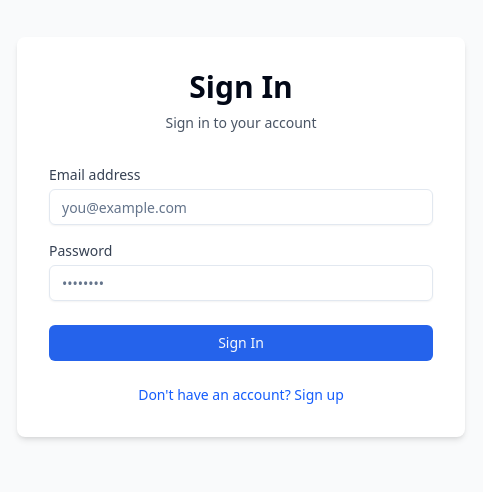
Scenario: LoginForm › displays error message on sign in failure
The image size is (483, 492).
In the field labelled "Email address": (241, 207) [49,189,433,225], type "test@example.com"
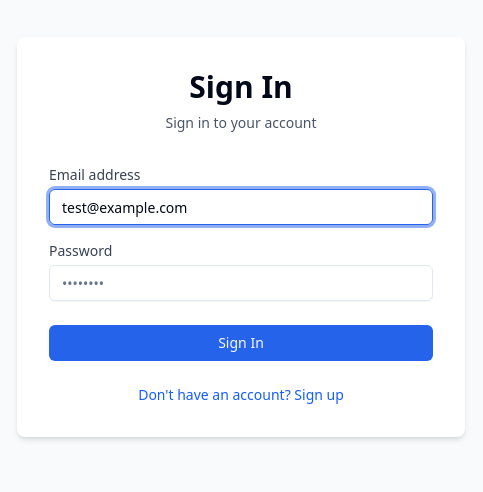
In the password field labelled "Password": (241, 283) [49,265,433,301], type "wrongpassword"
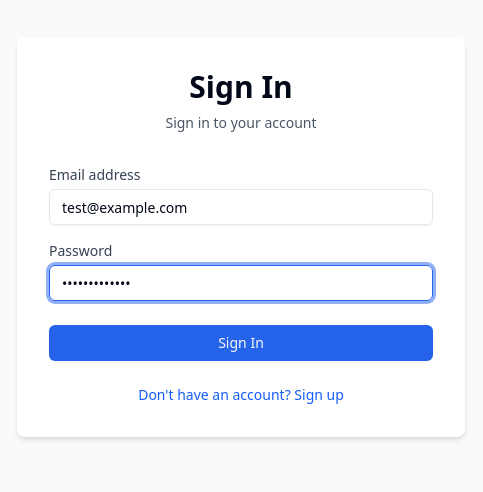
Click the button "Sign In": (241, 343) [49,325,433,361]
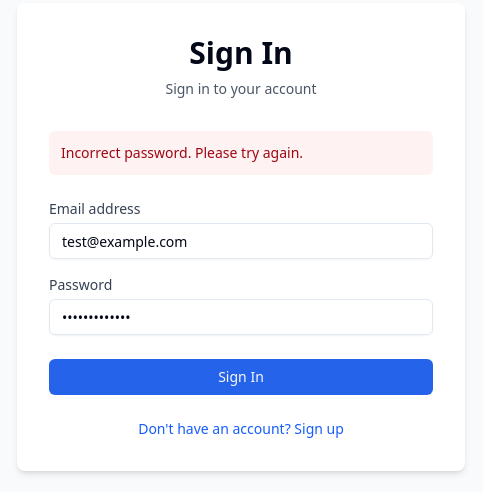
Expected: the text "Incorrect password. Please try again." is shown, [49,131,433,175]
